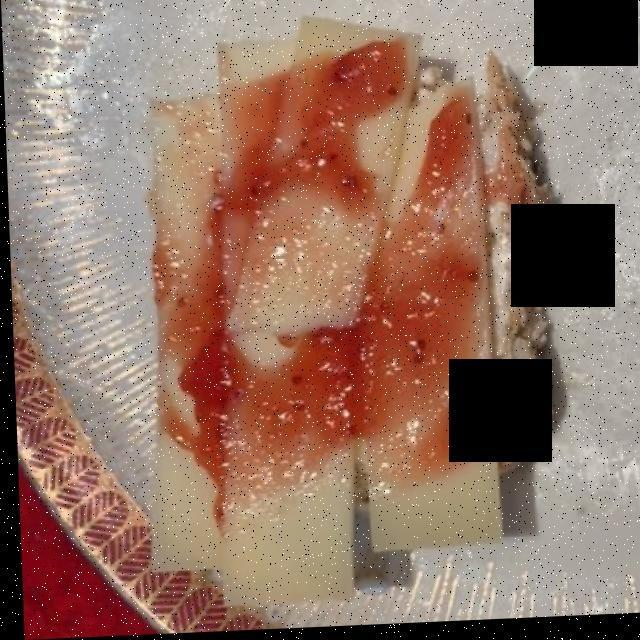gruyere: (142, 21, 508, 610)
jam: (149, 39, 534, 535)
